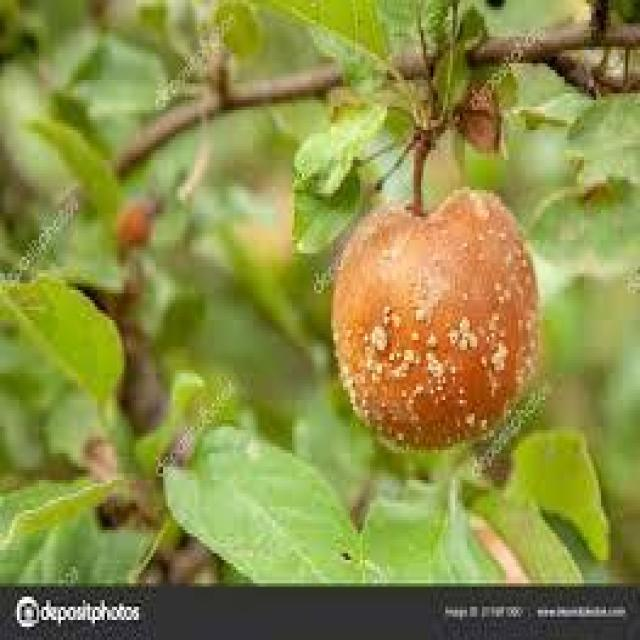maca: (328, 183, 542, 450)
